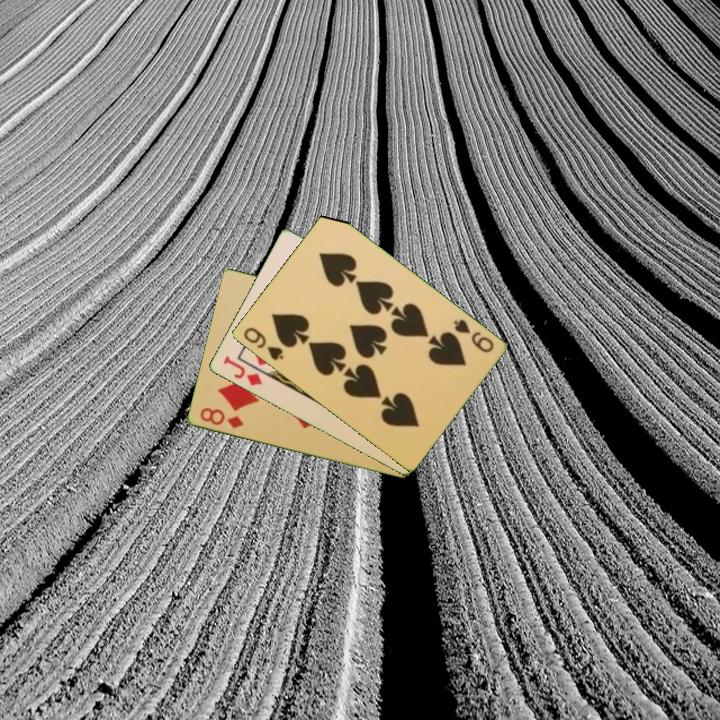8d: (196, 404, 246, 431)
9s: (450, 315, 497, 356), (239, 324, 286, 363)
Jd: (219, 352, 265, 389)
